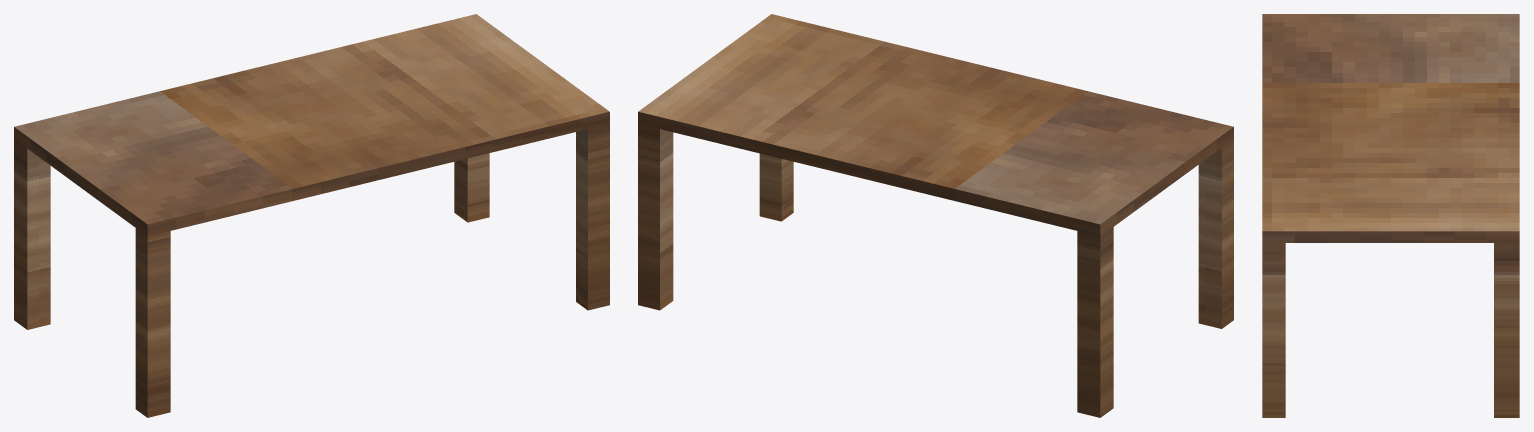
Rendered from table.glb.
The picture shows the model from 3 angles, left to right: view 1: azimuth 30°, elevation 25°; view 2: azimuth 150°, elevation 25°; view 3: azimuth 270°, elevation 25°; orthographic projection. The views are drawn at different scales.
Visible parts, largest first — view 1: table; view 2: table; view 3: table.
Part boxes in pixels (bbox=[...]): table: bbox=[14, 14, 609, 417]; table: bbox=[638, 14, 1233, 417]; table: bbox=[1262, 14, 1519, 417].
Bounding box in the file's own units: 8 × 3.2 × 4.
Materials: 1 (1 with a texture image).
